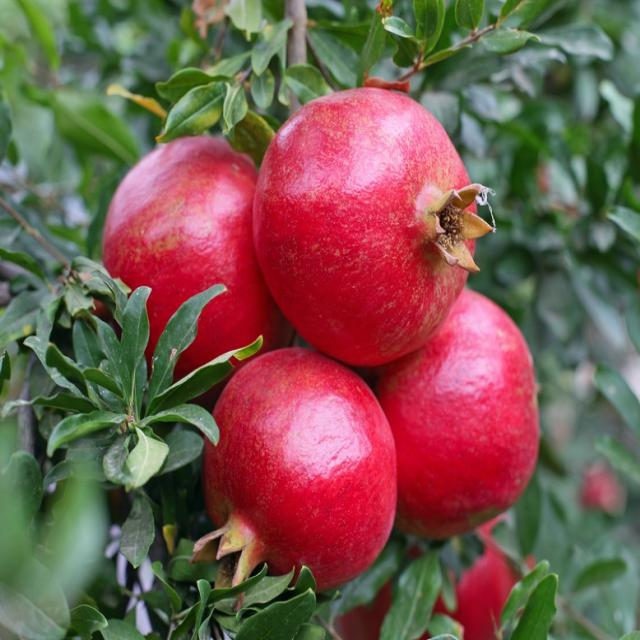Pomegranate: (192, 290, 539, 590), (252, 88, 470, 365), (104, 136, 292, 377)
